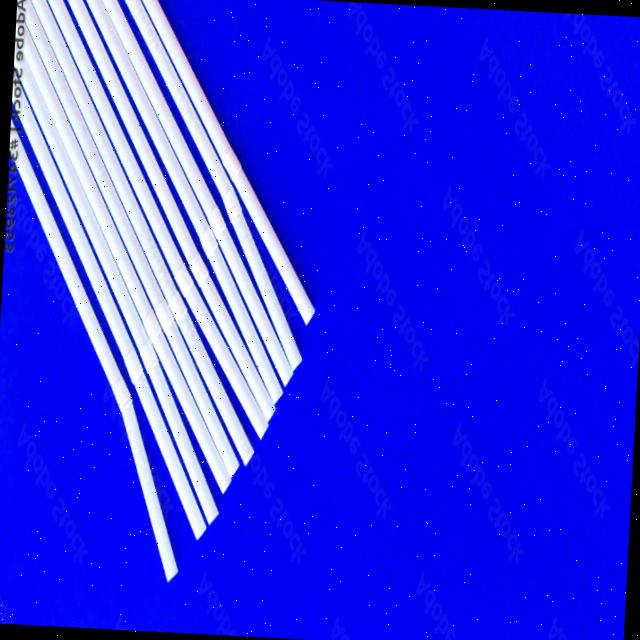plastic: (213, 108, 344, 334)
